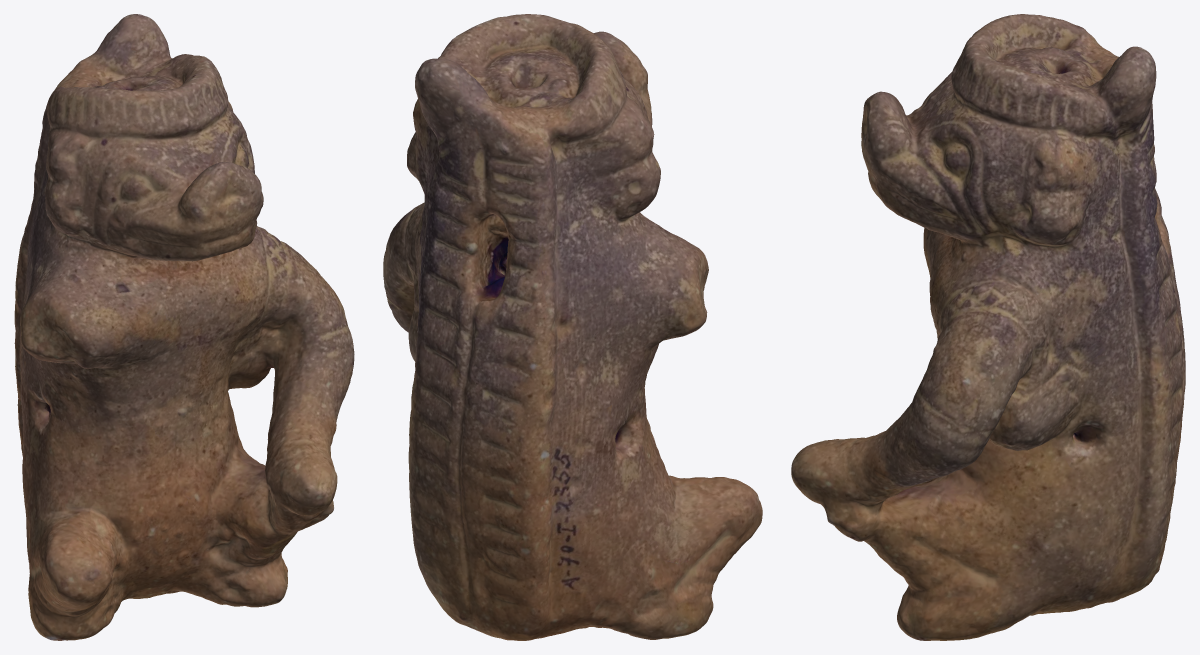
File: instrumento_musical_zoomorfo.glb
3 views of the same model, side by side, from view 1: azimuth 30°, elevation 25°; view 2: azimuth 150°, elevation 25°; view 3: azimuth 270°, elevation 25° (orthographic). The views are drawn at different scales.
Parts seen in each view (by area): view 1: Object_2; view 2: Object_2; view 3: Object_2.
Part boxes in pixels (bbox=[...]): Object_2: bbox=[14, 14, 354, 640]; Object_2: bbox=[383, 14, 762, 640]; Object_2: bbox=[791, 14, 1185, 640].
Bounding box in the file's own units: 0.1521 × 0.2429 × 0.1506.
Materials: 1 (1 with a texture image).
